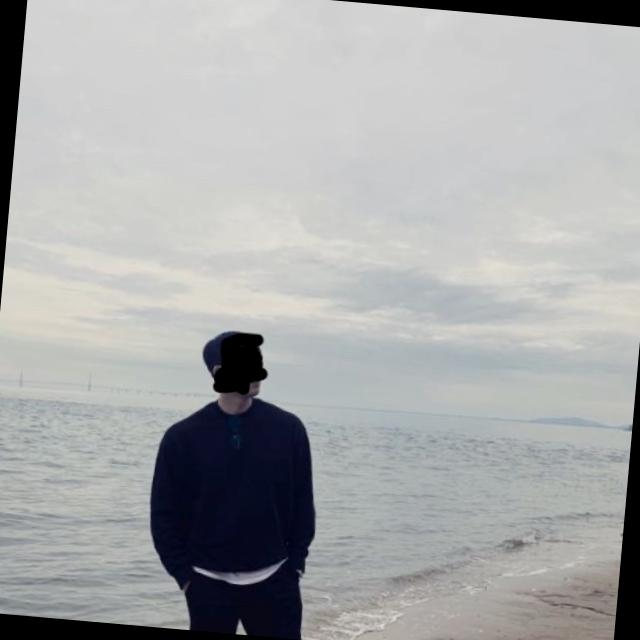mtm: (143, 385, 330, 599)
slacks: (174, 547, 318, 640)
